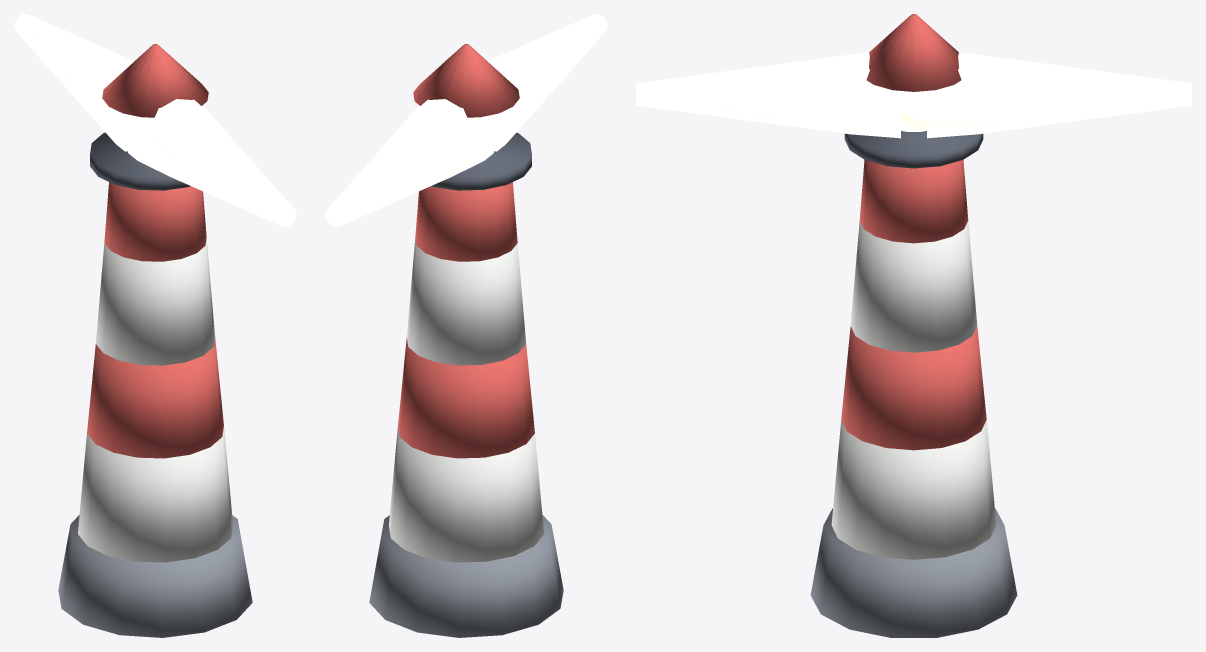
Rendered from lighthouse.glb.
The picture shows the model from 3 angles, left to right: view 1: azimuth 30°, elevation 25°; view 2: azimuth 150°, elevation 25°; view 3: azimuth 270°, elevation 25°; orthographic projection. The views are drawn at different scales.
Parts seen in each view (by area): view 1: Stripe1, Foundation, Stripe2, Stripe3, BeamFront, Stripe4, BeamBack, RoofCap, GalleryDeck; view 2: Stripe1, Foundation, Stripe2, Stripe3, BeamBack, Stripe4, BeamFront, RoofCap, GalleryDeck; view 3: Stripe1, Foundation, BeamBack, BeamFront, Stripe2, Stripe3, Stripe4, RoofCap, GalleryDeck, LampCore.
Boxes of the visible parts, <box> form: Stripe1: <box>78,427,232,562</box>; Foundation: <box>58,515,252,637</box>; Stripe2: <box>87,337,223,458</box>; Stripe3: <box>96,238,214,365</box>; BeamFront: <box>123,99,296,226</box>; Stripe4: <box>104,182,206,261</box>; BeamBack: <box>14,14,134,151</box>; RoofCap: <box>102,44,208,117</box>; GalleryDeck: <box>90,132,190,190</box>; Stripe1: <box>389,427,543,562</box>; Foundation: <box>369,515,563,637</box>; Stripe2: <box>398,337,534,458</box>; Stripe3: <box>407,238,525,365</box>; BeamBack: <box>325,99,498,226</box>; Stripe4: <box>415,182,517,261</box>; BeamFront: <box>487,14,607,151</box>; RoofCap: <box>413,44,519,117</box>; GalleryDeck: <box>431,132,531,190</box>; Stripe1: <box>831,420,996,559</box>; Foundation: <box>810,508,1017,637</box>; BeamBack: <box>927,52,1191,138</box>; BeamFront: <box>636,52,900,138</box>; Stripe2: <box>841,326,986,450</box>; Stripe3: <box>850,221,977,352</box>; Stripe4: <box>859,160,968,243</box>; RoofCap: <box>866,14,961,91</box>; GalleryDeck: <box>844,131,983,168</box>; LampCore: <box>901,91,926,131</box>.
Size of the model in its own units: 6.24 by 19.8 by 17.2.
